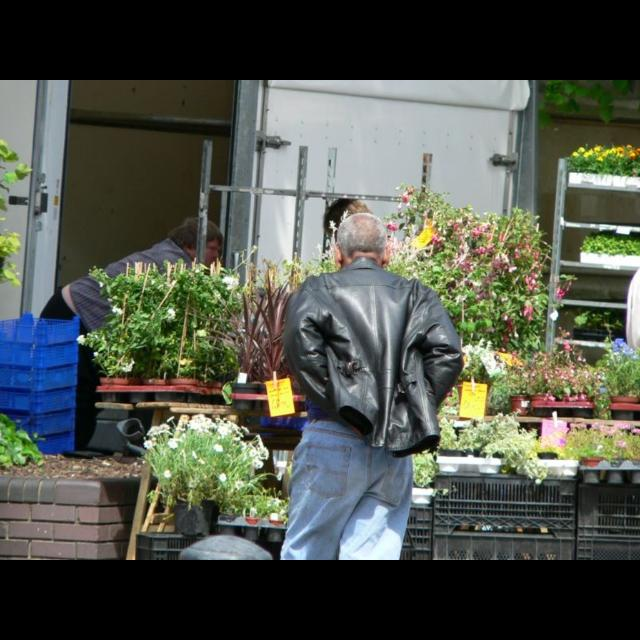Flower: (383, 185, 565, 329), (462, 336, 606, 399), (142, 412, 270, 470), (283, 208, 345, 272), (446, 408, 518, 452), (556, 418, 638, 454), (507, 428, 549, 482), (243, 488, 284, 520), (569, 145, 639, 161), (607, 335, 639, 361), (220, 272, 242, 292), (105, 296, 123, 316), (122, 358, 138, 372), (194, 326, 208, 340), (162, 464, 174, 480), (164, 304, 176, 320), (552, 404, 560, 424), (76, 333, 88, 345), (178, 357, 190, 368), (166, 441, 177, 452), (93, 348, 101, 360), (217, 472, 229, 480)
